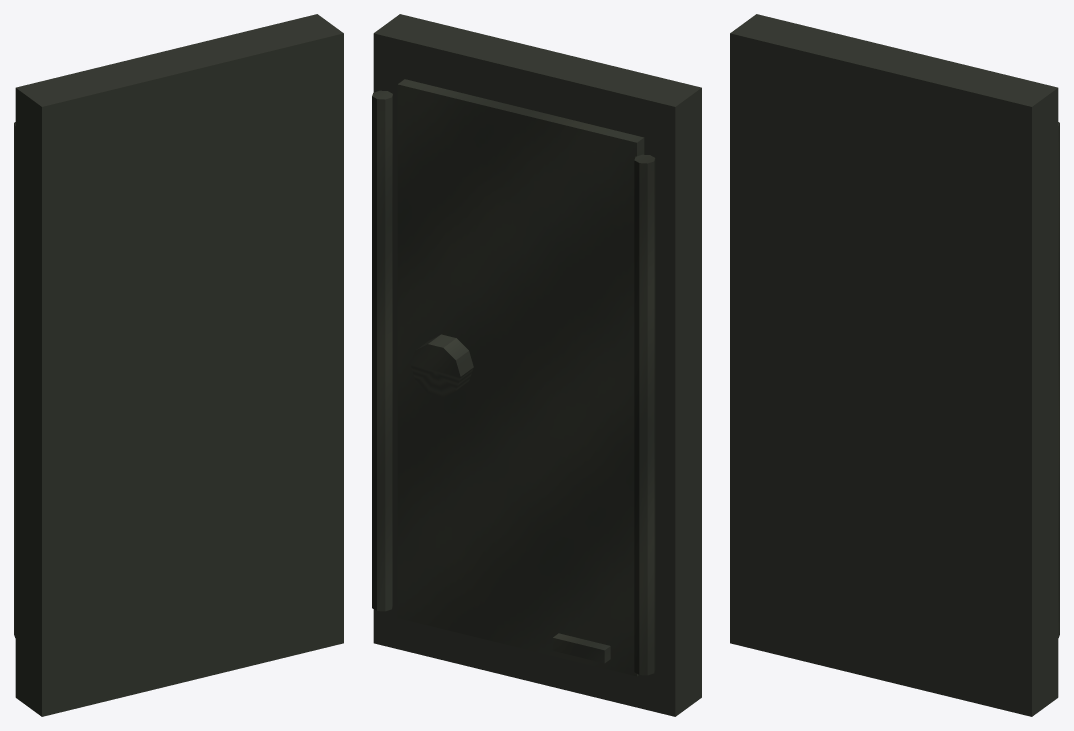
File: prop_cell_door_steel_a.glb
The picture shows the model from 3 angles, left to right: view 1: azimuth 30°, elevation 25°; view 2: azimuth 150°, elevation 25°; view 3: azimuth 330°, elevation 25°; orthographic projection.
Parts seen in each view (by area): view 1: prop_cell_door_steel_a; view 2: prop_cell_door_steel_a; view 3: prop_cell_door_steel_a.
Boxes of the visible parts, x1,y1,x2,y2 form: prop_cell_door_steel_a: (14,14,343,716); prop_cell_door_steel_a: (372,14,701,716); prop_cell_door_steel_a: (730,14,1059,716).
Bounding box in the file's own units: 1.45 × 2.8 × 0.405.
Materials: 1 (1 with a texture image).
